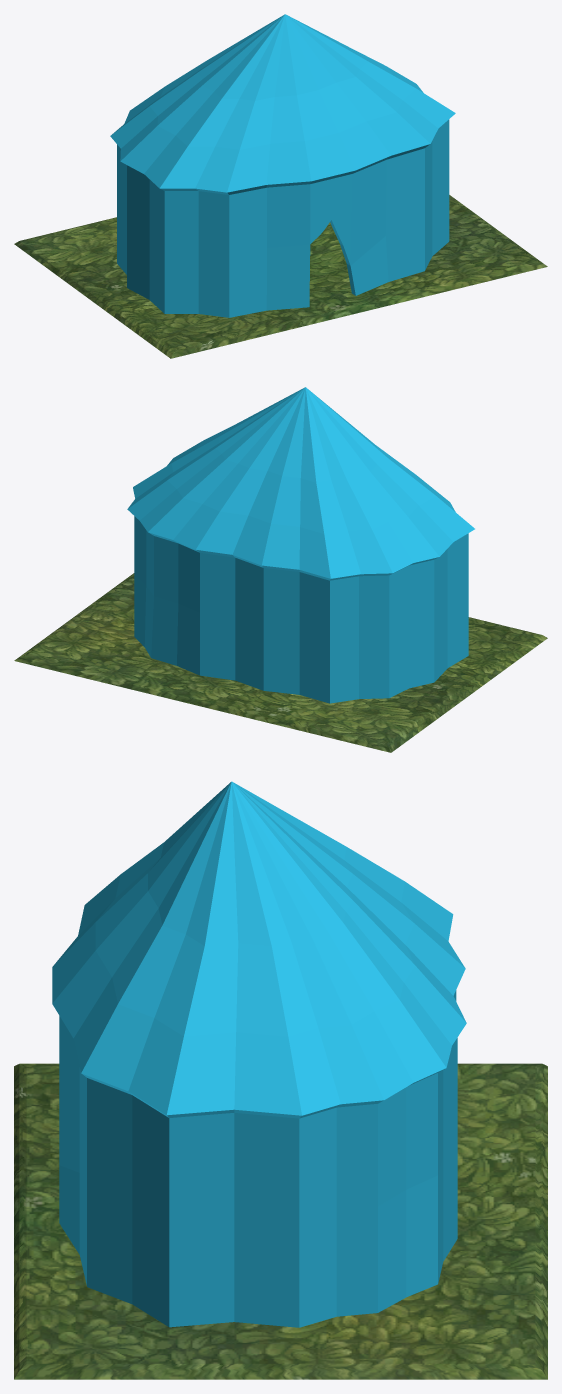
File: Carpas.fbx
3 renders of one model, top to bottom at view 1: azimuth 30°, elevation 25°; view 2: azimuth 150°, elevation 25°; view 3: azimuth 270°, elevation 25°, orthographic. The views are drawn at different scales.
Visible parts, largest first — view 1: Plane, Plane.001; view 2: Plane, Plane.001; view 3: Plane, Plane.001.
Boxes of the visible parts, left/top/right/bottom form: Plane: left=110, top=14, right=455, bottom=317; Plane.001: left=14, top=195, right=547, bottom=358; Plane: left=127, top=387, right=474, bottom=703; Plane.001: left=14, top=573, right=547, bottom=752; Plane: left=52, top=781, right=466, bottom=1327; Plane.001: left=14, top=1063, right=547, bottom=1379.
Size of the model in its own units: 7017 by 4522 by 5053.
2 materials, 1 textured.
